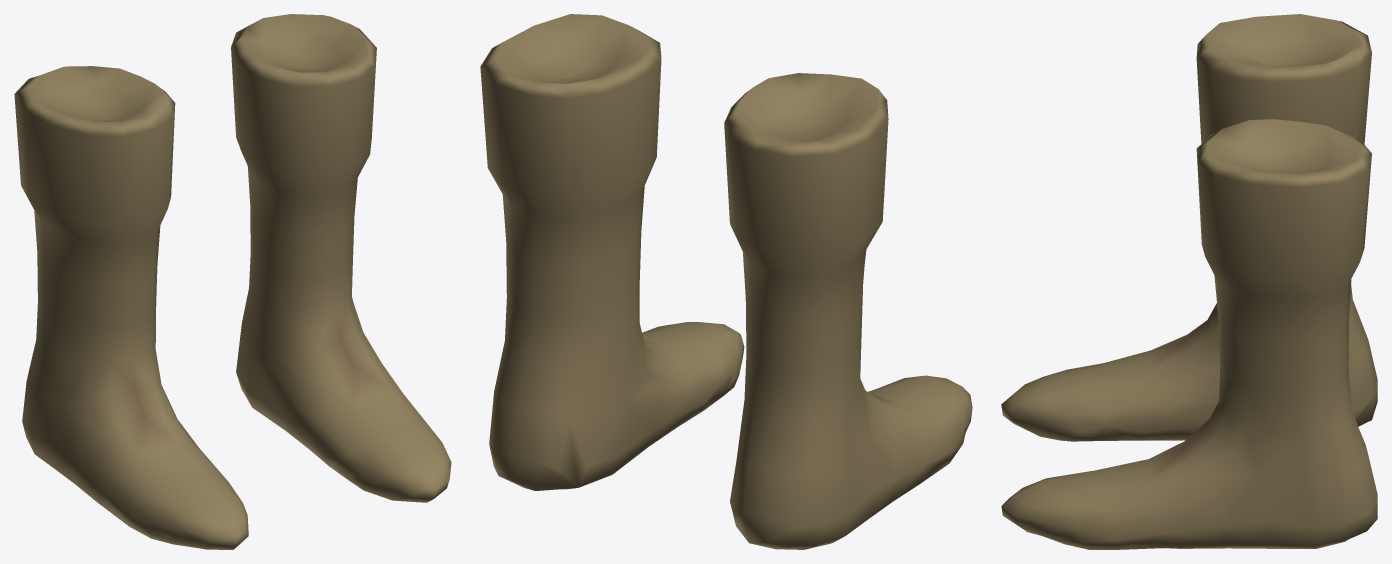
File: Boots_001.fbx
3 views of the same model, side by side, from view 1: azimuth 30°, elevation 25°; view 2: azimuth 150°, elevation 25°; view 3: azimuth 270°, elevation 25° (orthographic). The views are drawn at different scales.
Parts seen in each view (by area): view 1: Boots; view 2: Boots; view 3: Boots.
Part boxes in pixels (left/top/right/bottom): Boots: left=14, top=14, right=451, bottom=549; Boots: left=480, top=14, right=972, bottom=549; Boots: left=1001, top=14, right=1377, bottom=549.
Bounding box in the file's own units: 30.96 × 32.86 × 28.87.
